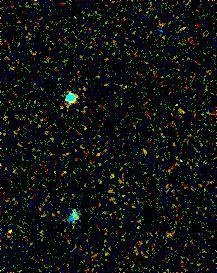star: (0, 220, 24, 250)
